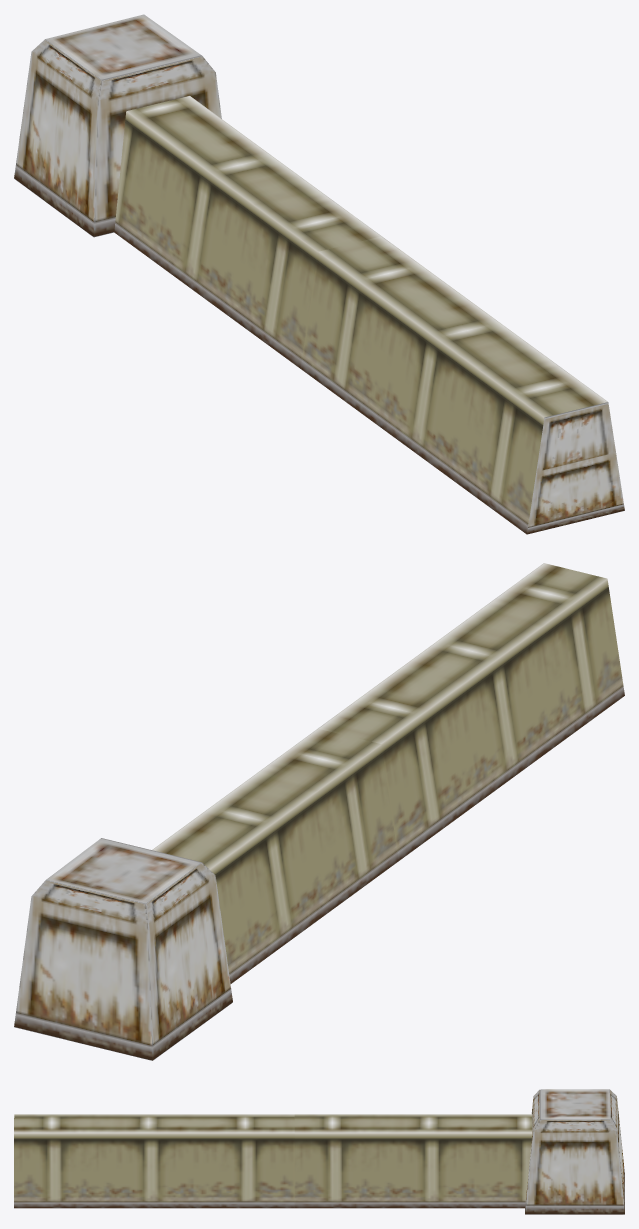
File: d_lightwall.glb
The picture shows the model from 3 angles, top to bottom: view 1: azimuth 30°, elevation 25°; view 2: azimuth 150°, elevation 25°; view 3: azimuth 270°, elevation 25°; orthographic projection. The views are drawn at different scales.
Visible parts, largest first — view 1: DavionLightwallSquat; view 2: DavionLightwallSquat; view 3: DavionLightwallSquat.
Part boxes in pixels (x1,y1,x2,y2): DavionLightwallSquat: [14, 14, 624, 534]; DavionLightwallSquat: [14, 563, 624, 1060]; DavionLightwallSquat: [14, 1089, 624, 1214].
Size of the model in its own units: 4.54 by 4.49 by 27.88.
1 material, 1 textured.
